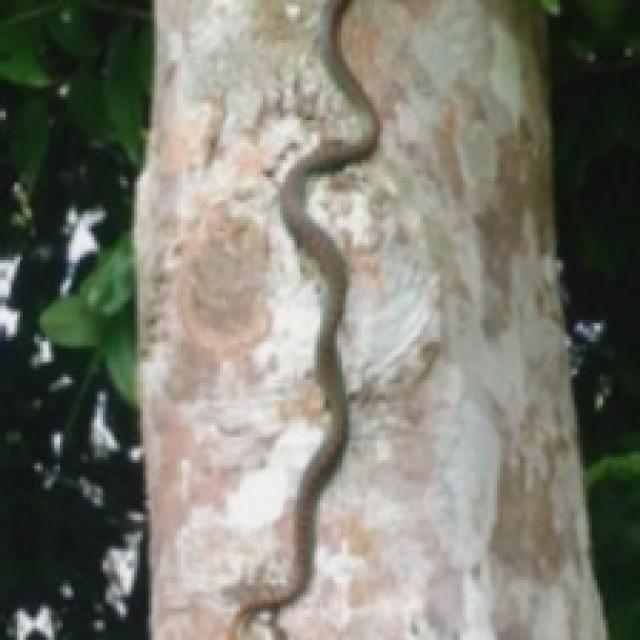paradise tree snake: (229, 0, 377, 637)
